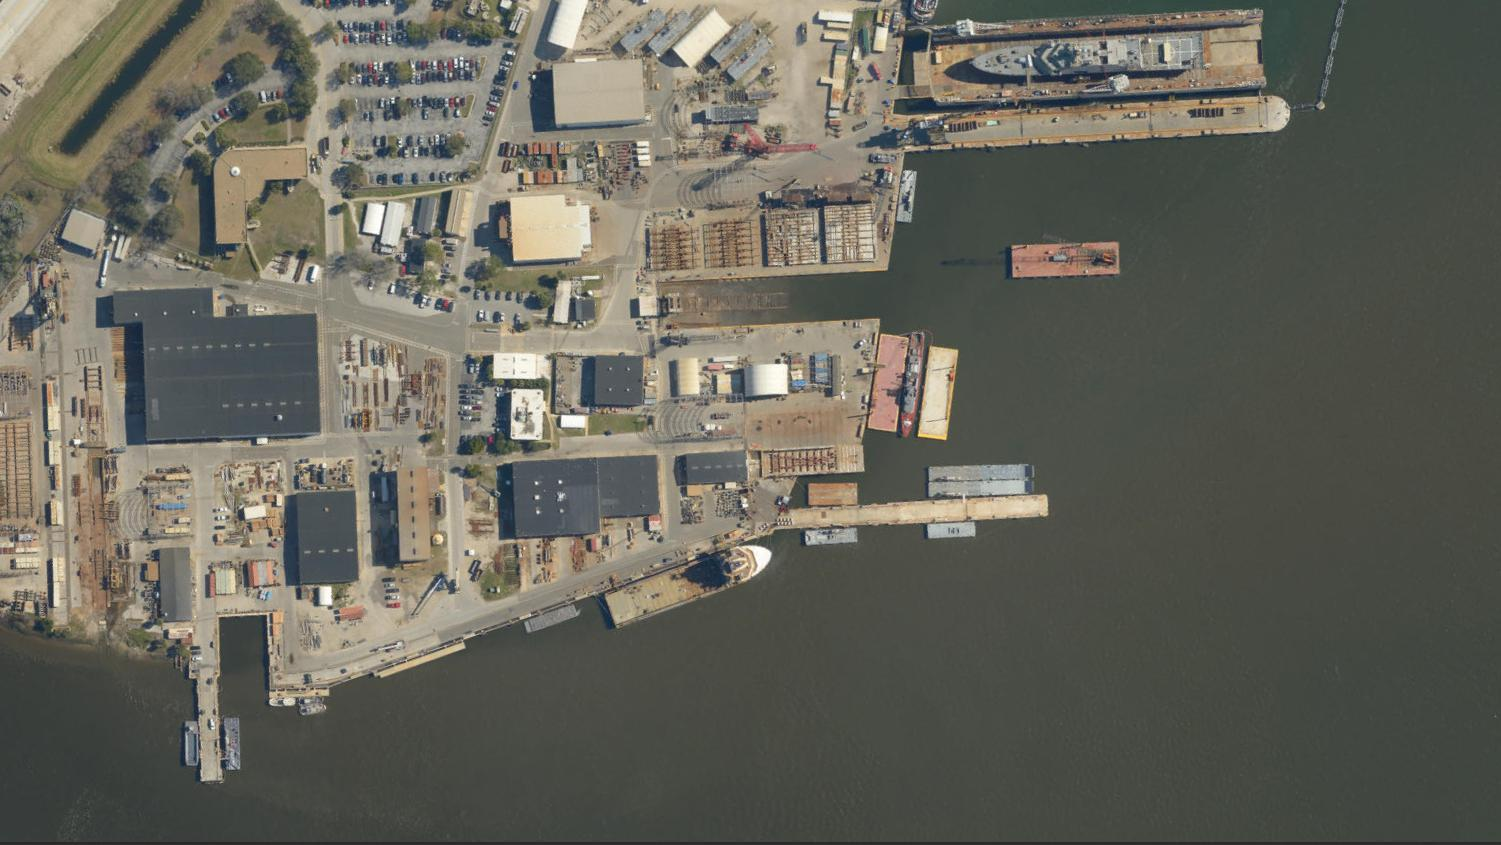patrol: (964, 32, 1206, 80)
